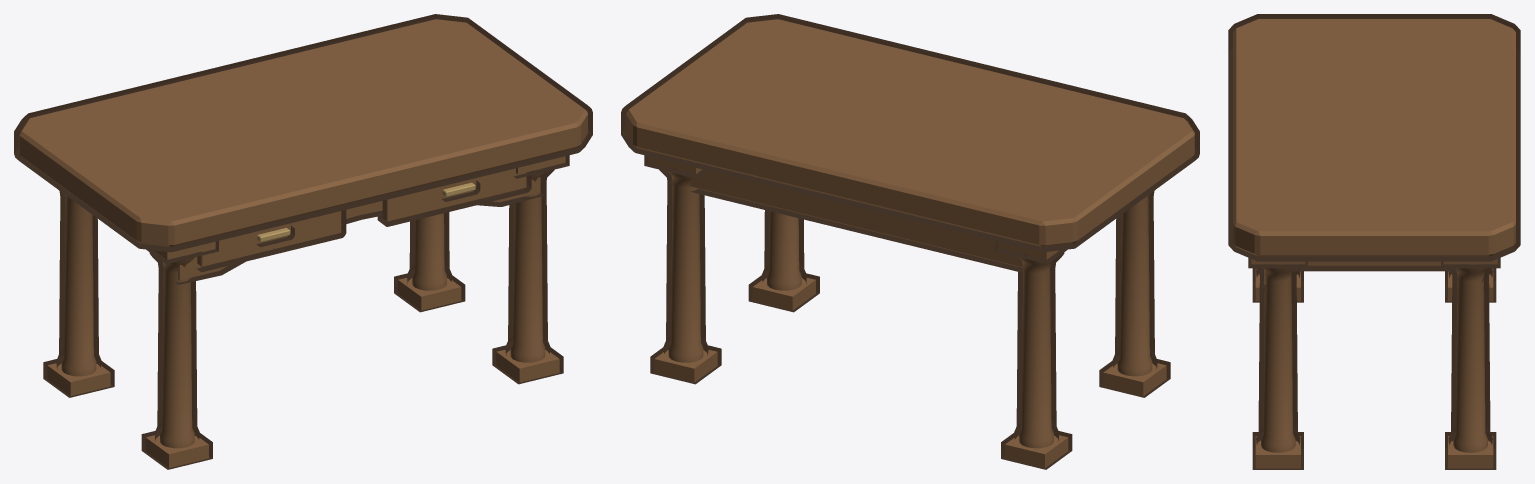
Rendered from library-desk.glb.
3 renders of one model, left to right at view 1: azimuth 30°, elevation 25°; view 2: azimuth 150°, elevation 25°; view 3: azimuth 270°, elevation 25°, orthographic. The views are drawn at different scales.
Parts seen in each view (by area): view 1: library-desk, library-desk-outline; view 2: library-desk, library-desk-outline; view 3: library-desk, library-desk-outline.
Boxes of the visible parts, x1,y1,x2,y2 form: library-desk: (19,19,587,467); library-desk-outline: (14,14,592,469); library-desk: (626,19,1194,467); library-desk-outline: (621,14,1199,469); library-desk: (1233,19,1515,468); library-desk-outline: (1228,14,1520,469).
Size of the model in its own units: 1.83 by 0.9956 by 1.03.
